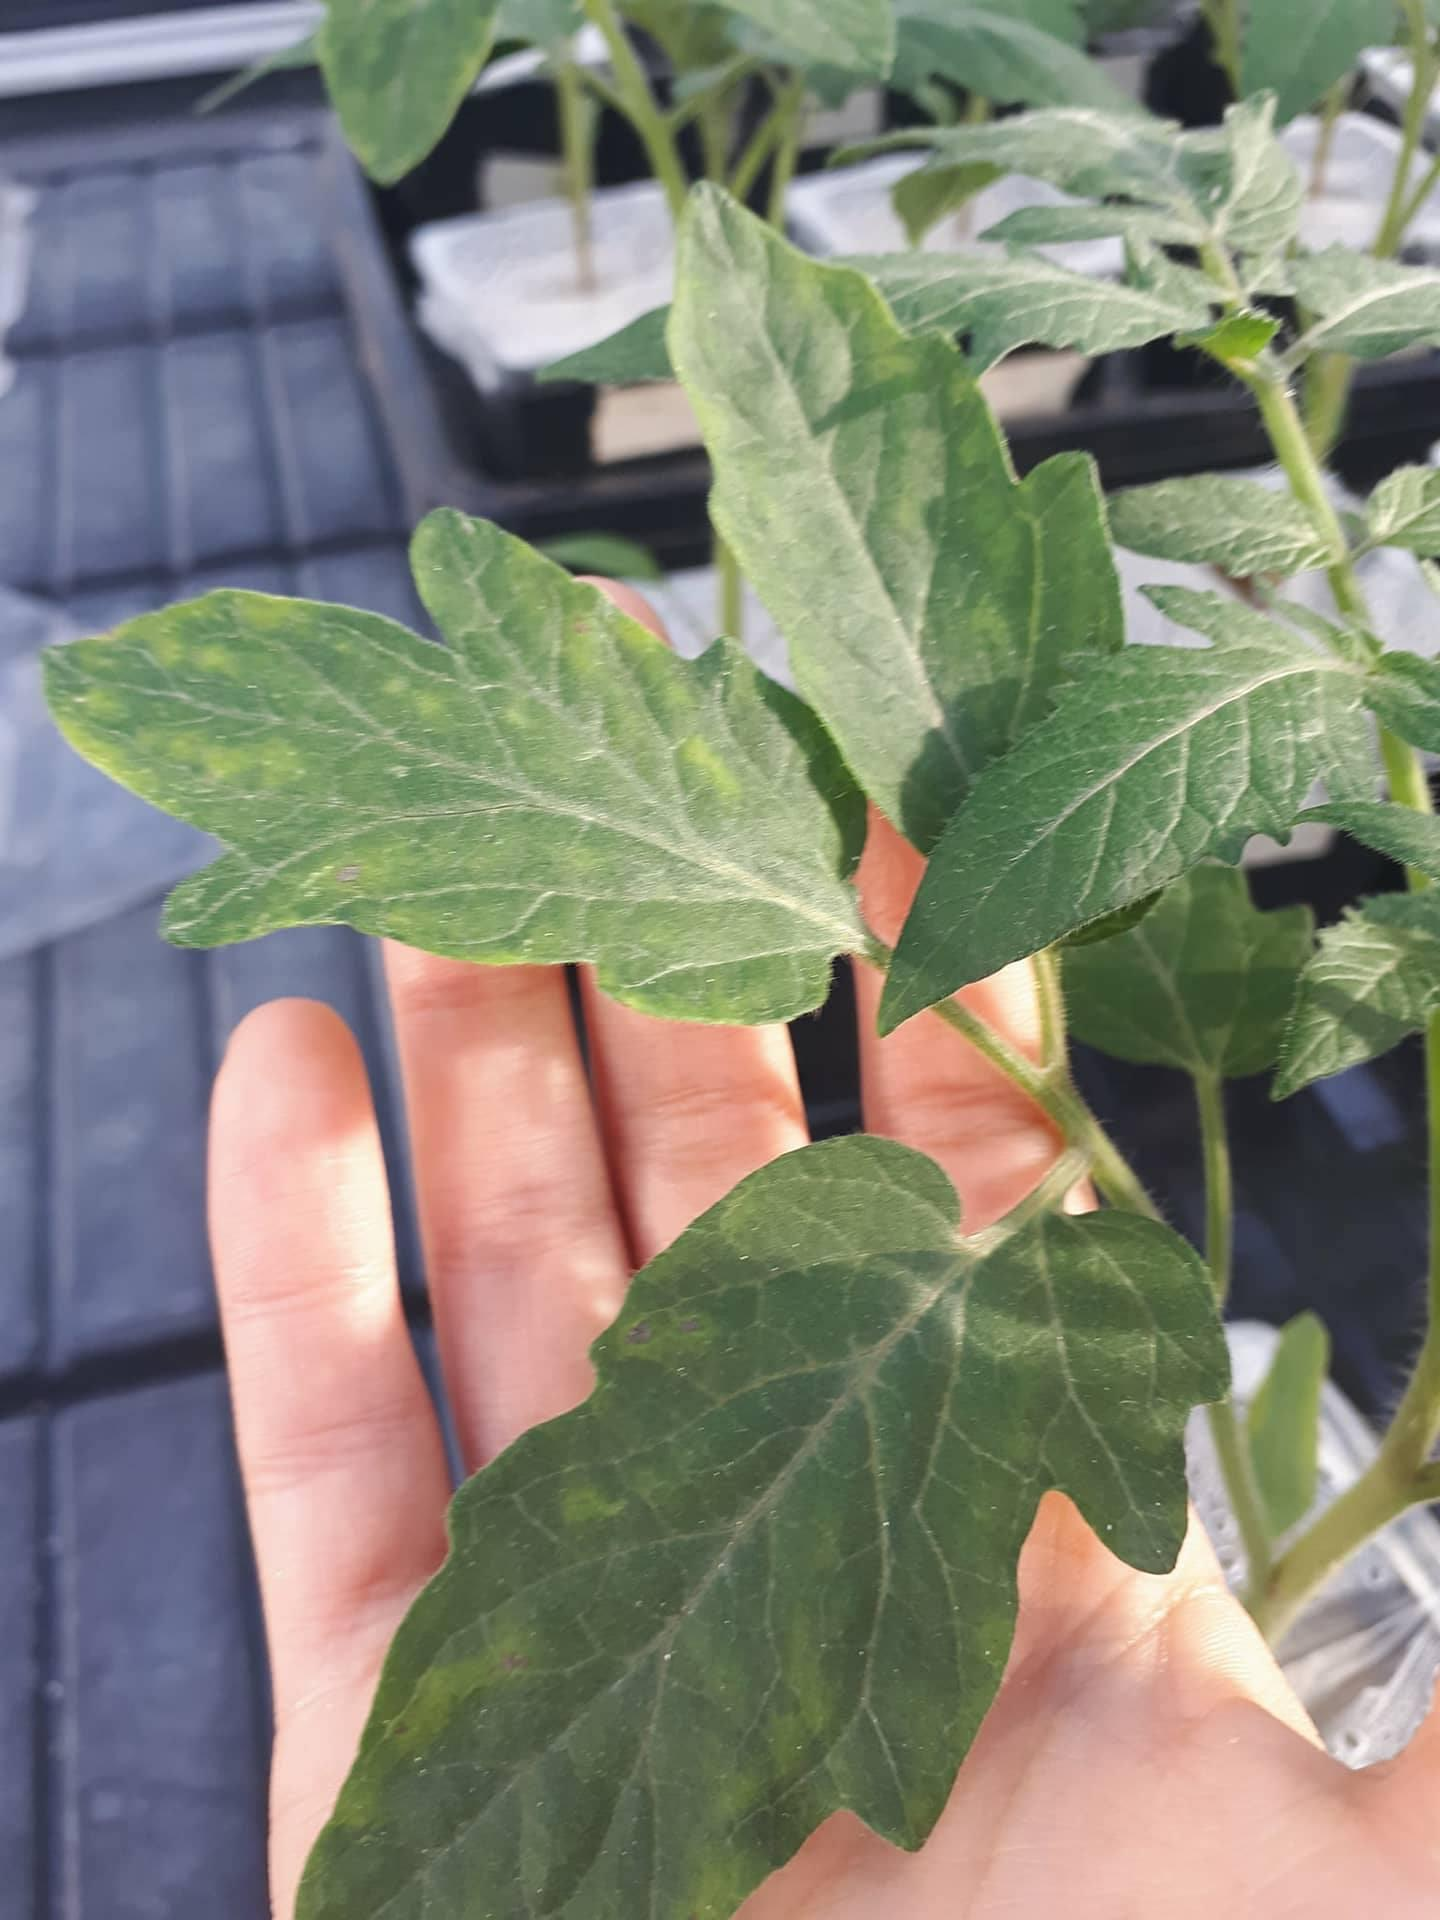Tomato mold leaf: (306, 1111, 1240, 1909), (2, 482, 889, 999), (868, 585, 1386, 1076)
